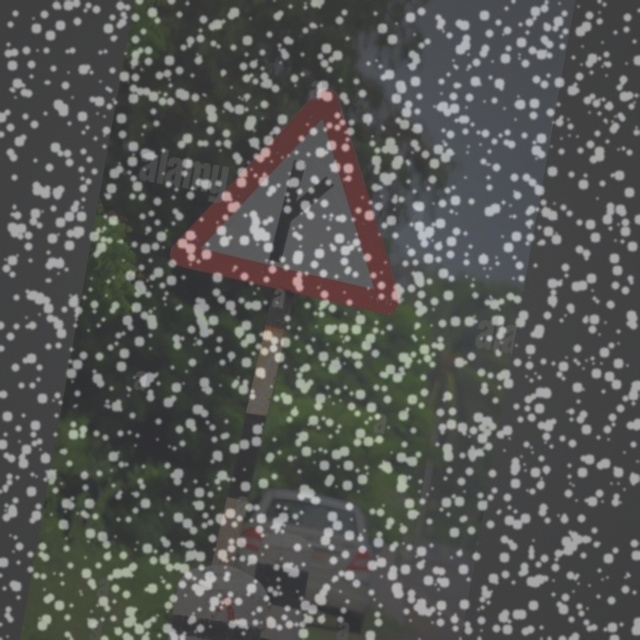Y_Intersection: (165, 63, 444, 323)
